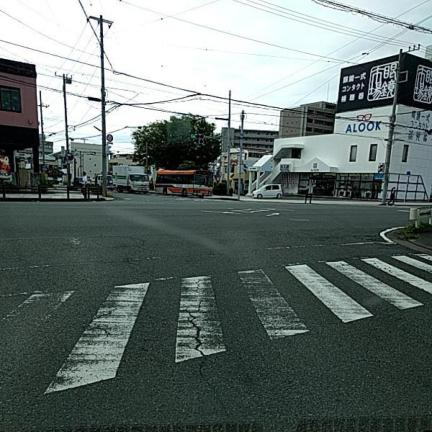Road: (0, 195, 431, 430)
